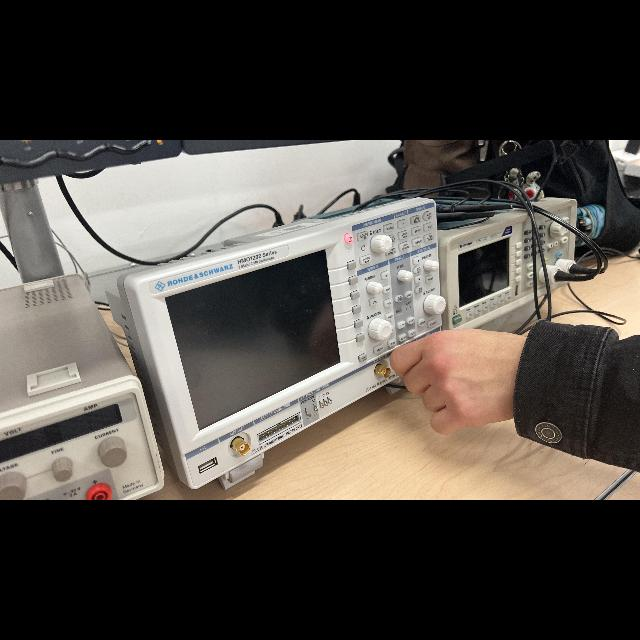Digital-Oscilloscope: (110, 198, 445, 489)
